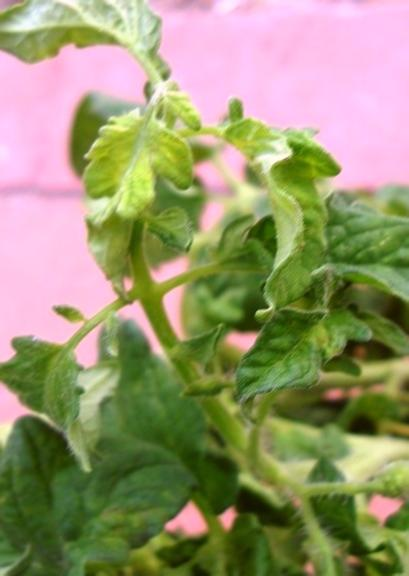Tomato leaf yellow virus: (222, 100, 352, 329), (62, 104, 198, 295), (0, 316, 103, 484), (0, 0, 189, 80), (301, 198, 409, 325)
